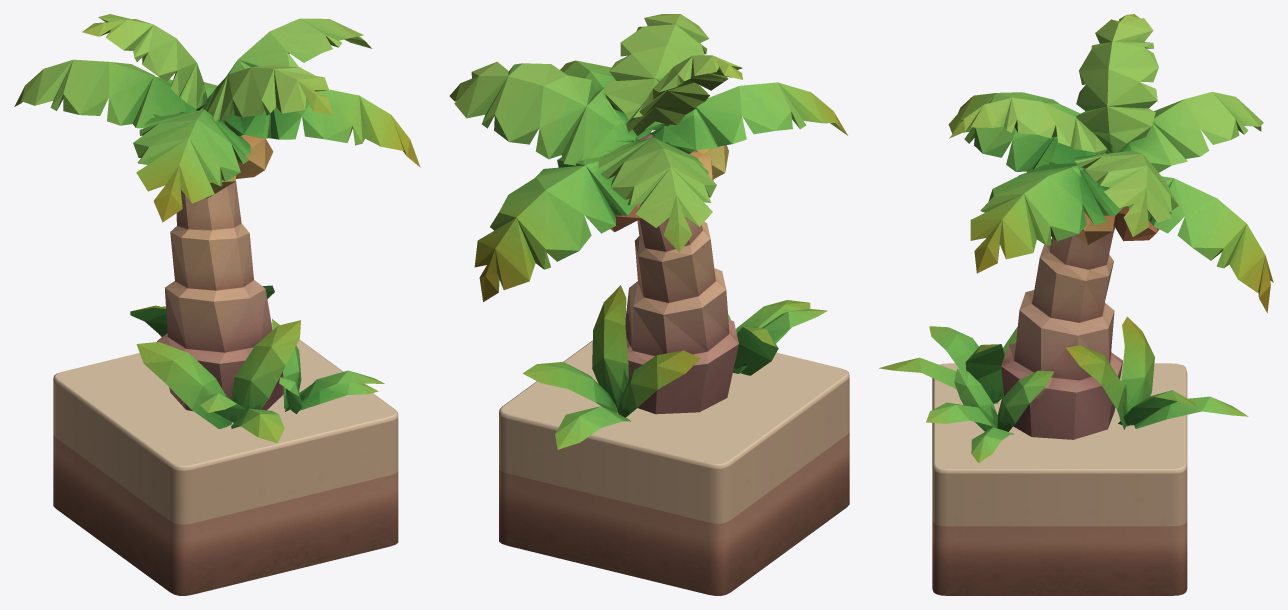
The model's file is Props.fbx.
3 renders of one model, left to right at view 1: azimuth 30°, elevation 25°; view 2: azimuth 150°, elevation 25°; view 3: azimuth 270°, elevation 25°, orthographic. The views are drawn at different scales.
Visible parts, largest first — view 1: yezishu02, Box02; view 2: yezishu02, Box02; view 3: yezishu02, Box02.
Part boxes in pixels (x1,y1,x2,y2): yezishu02: (14,14,420,442); Box02: (53,322,398,595); yezishu02: (449,14,847,449); Box02: (499,340,849,595); yezishu02: (879,14,1273,463); Box02: (932,363,1187,595).
Size of the model in its own units: 6.46 by 10.12 by 7.45.
